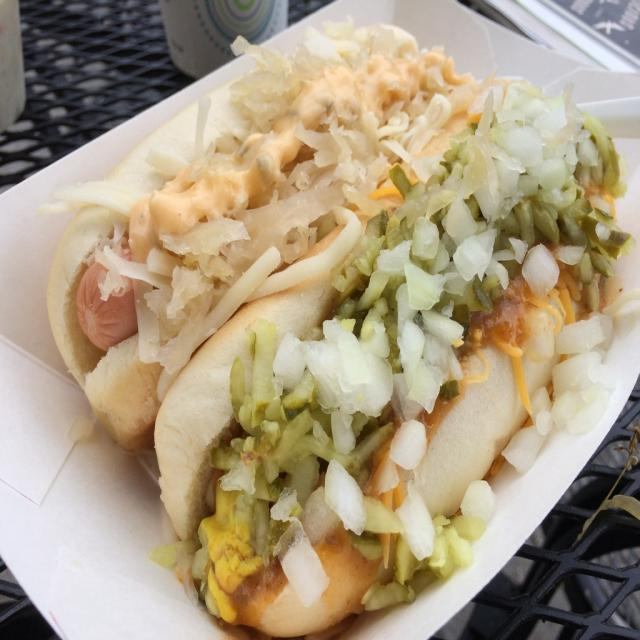Hot dog: (38, 12, 628, 640), (44, 42, 478, 456)
